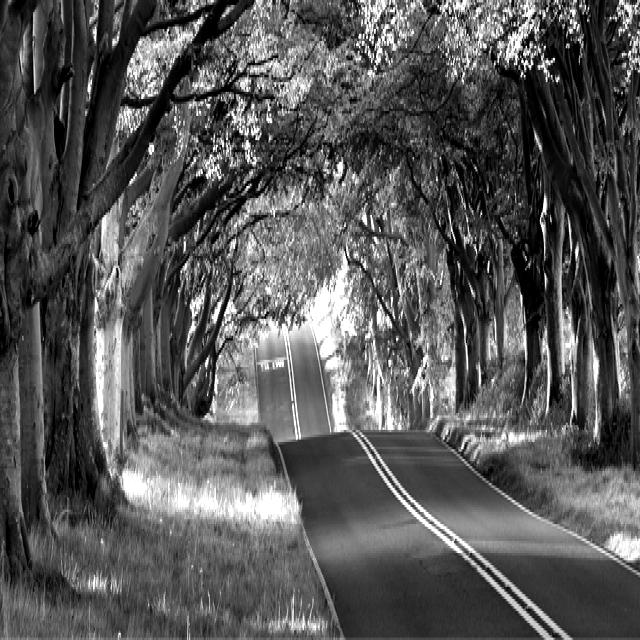cleat: (216, 271, 640, 640)
